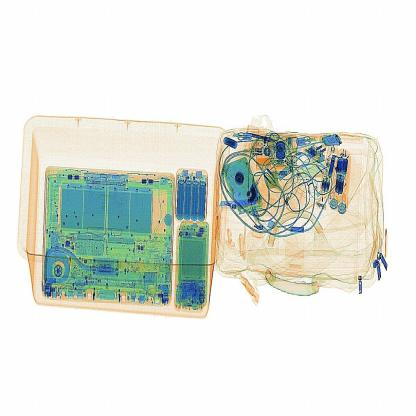pliers: (213, 188, 276, 217)
